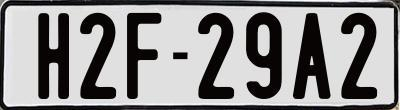2: (198, 13, 239, 105), (339, 12, 377, 104), (77, 13, 113, 104)
9: (243, 11, 284, 99)
A: (291, 10, 331, 100)
F: (124, 10, 162, 98)
H: (35, 12, 72, 100)
